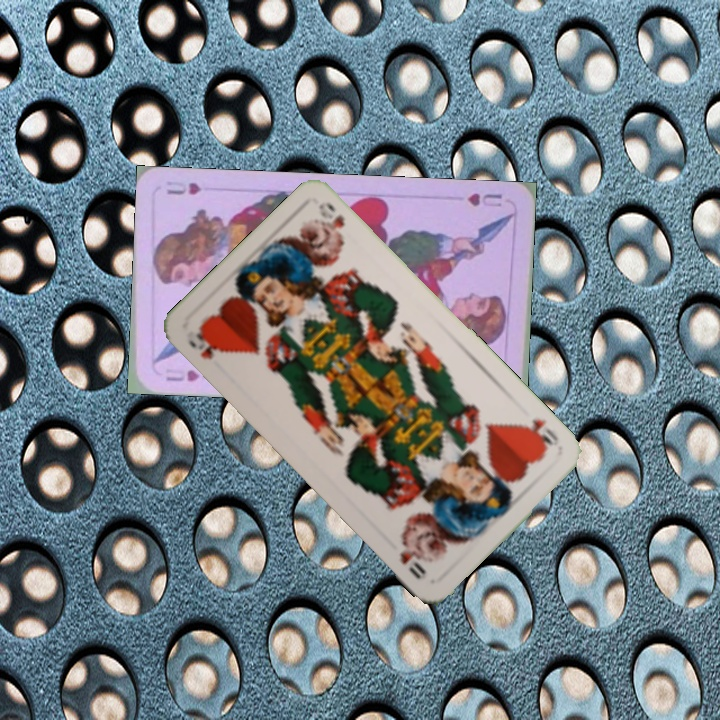HO: (516, 414, 561, 453), (183, 324, 224, 363)
HU: (463, 188, 505, 210), (161, 364, 202, 384)
